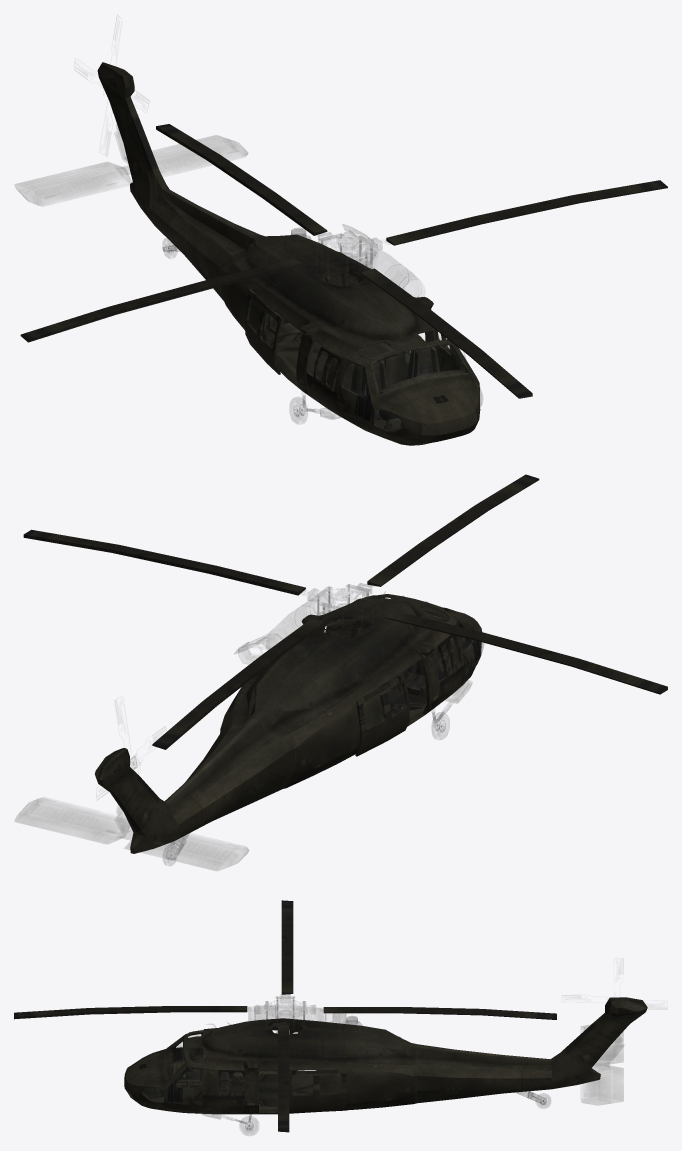
File: helicopter.glb
3 renders of one model, top to bottom at view 1: azimuth 30°, elevation 25°; view 2: azimuth 150°, elevation 25°; view 3: azimuth 270°, elevation 25°, orthographic. The views are drawn at different scales.
Visible parts, largest first — view 1: Body_, wing, mirrors; view 2: Body_, wing; view 3: Body_, wing.
Part boxes in pixels (x1=…): Body_: x1=15, y1=62, x2=480, y2=445; wing: x1=20, y1=124, x2=667, y2=398; mirrors: x1=247, y1=298, x2=482, y2=431; Body_: x1=15, y1=583, x2=481, y2=870; wing: x1=23, y1=474, x2=667, y2=749; Body_: x1=124, y1=994, x2=647, y2=1135; wing: x1=14, y1=900, x2=556, y2=1132.
Size of the model in its own units: 0.1704 by 0.0529 by 0.2052.
4 materials, 4 textured.
